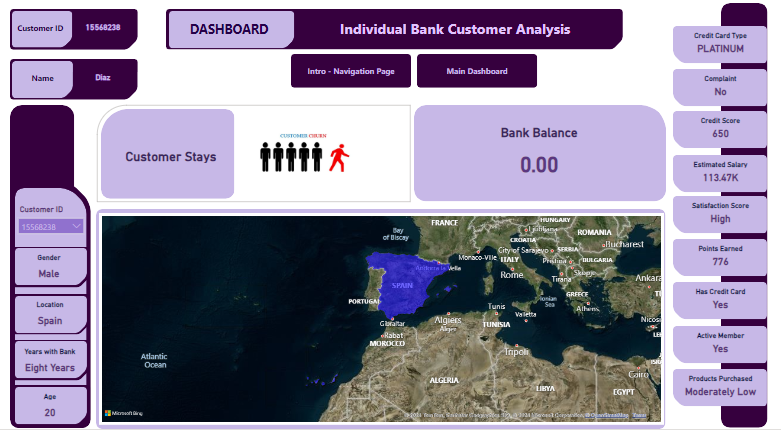

The dashboard page shown, as its layout file describes it:
{"tool":"powerbi","page":{"name":"Customer Analysis","canvas":[1280,720],"ordinal":2},"visuals":[{"type":"group","id":"g1","title":"Group 2","box":[1121.3,38.9,158.7,62.9],"z":0,"group":"g10"},{"type":"shape","box":[682.2,173.1,426.2,163],"z":0},{"type":"shape","box":[153.4,178.7,226,151.6],"z":0,"group":"g11"},{"type":"group","id":"g2","title":"Group 2","box":[1121.3,111.8,158.7,62.9],"z":1000,"group":"g10"},{"type":"shape","box":[0,173.1,108.7,546.3],"z":1000},{"type":"group","id":"g3","title":"Group 2","box":[1121.3,183.3,158.7,62.9],"z":2000,"group":"g10"},{"type":"group","id":"g4","title":"Group 2","box":[1121.3,256.3,158.7,62.9],"z":3000,"group":"g10"},{"type":"shape","box":[0,303.1,136.5,416.3],"z":3000},{"type":"group","id":"g5","title":"Group 2","box":[1121.3,326.4,158.7,62.9],"z":4000,"group":"g10"},{"type":"shape","box":[145.9,347.5,962.5,371.8],"z":4000},{"type":"shape","box":[8.1,313.4,121.4,394.4],"z":5000},{"type":"group","id":"g6","title":"Group 2","box":[1121.3,399.3,158.7,62.9],"z":5000,"group":"g10"},{"type":"shape","box":[0,10,215.9,68.7],"z":6000},{"type":"group","id":"g7","title":"Group 2","box":[1121.3,472.2,158.7,62.9],"z":6000,"group":"g10"},{"type":"shape","box":[3.4,13.6,101.8,61.6],"z":7000},{"type":"group","id":"g8","title":"Group 2","box":[1121.3,545.2,158.7,62.9],"z":7000,"group":"g10"},{"type":"textbox","box":[5.6,29,99.6,28.4],"z":8000},{"type":"group","id":"g9","title":"Group 2","box":[1121.3,618.1,158.7,62.9],"z":8000,"group":"g10"},{"type":"card","fields":{"Values":["Min(Customer-Churn-Records.CustomerId)"]},"box":[105.3,15,104.4,54.2],"z":9000},{"type":"slicer","fields":{"Values":["Customer-Churn-Records.CustomerId"]},"box":[2.9,336.1,131.6,61.5],"z":10000},{"type":"shape","box":[0,94.4,215.9,68.7],"z":11000},{"type":"shape","box":[2.9,97.3,103,62.9],"z":12000},{"type":"textbox","box":[5.6,113.3,99.6,28.4],"z":13000},{"type":"card","fields":{"Values":["Min(Customer-Churn-Records.Surname)"]},"box":[105.3,99.3,104.4,54.2],"z":14000},{"type":"shape","box":[1201.3,0,78.7,717.9],"z":15000},{"type":"group","id":"g10","title":"Group 3","box":[1121.3,38.9,158.7,642.1],"z":16000},{"type":"shape","box":[0,411.9,134.4,68.6],"z":17000},{"type":"shape","box":[8.6,414.7,121.6,62.9],"z":18000},{"type":"shape","box":[0,492,134.4,68.6],"z":19000},{"type":"shape","box":[8.6,494.8,121.6,62.9],"z":20000},{"type":"shape","box":[1121.3,38.9,158.7,62.9],"z":20002,"group":"g1"},{"type":"shape","box":[1121.3,111.8,158.7,62.9],"z":20002,"group":"g2"},{"type":"shape","box":[1121.3,183.3,158.7,62.9],"z":20002,"group":"g3"},{"type":"shape","box":[1121.3,256.3,158.7,62.9],"z":20002,"group":"g4"},{"type":"shape","box":[1121.3,326.4,158.7,62.9],"z":20002,"group":"g5"},{"type":"shape","box":[1121.3,399.3,158.7,62.9],"z":20002,"group":"g6"},{"type":"shape","box":[1121.3,472.2,158.7,62.9],"z":20002,"group":"g7"},{"type":"shape","box":[1121.3,545.2,158.7,62.9],"z":20002,"group":"g8"},{"type":"shape","box":[1121.3,618.1,158.7,62.9],"z":20002,"group":"g9"},{"type":"shape","box":[0,569.2,134.4,68.6],"z":21000},{"type":"card","title":"Credit Card Type","fields":{"Values":["Min(Customer-Churn-Records.Card Type)"]},"box":[1122.7,47.5,157.3,47.2],"z":21004,"group":"g1"},{"type":"card","title":"Complaint","fields":{"Values":["Min(Customer-Churn-Records.Complain)"]},"box":[1122.7,120.4,157.3,47.2],"z":21004,"group":"g2"},{"type":"card","title":"Credit Score","fields":{"Values":["Sum(Customer-Churn-Records.CreditScore)"]},"box":[1122.7,191.9,157.3,47.2],"z":21004,"group":"g3"},{"type":"card","title":"Estimated Salary","fields":{"Values":["Sum(Customer-Churn-Records.EstimatedSalary)"]},"box":[1122.7,264.9,157.3,47.2],"z":21004,"group":"g4"},{"type":"card","title":"Satisfaction Score","fields":{"Values":["Min(Customer-Churn-Records.Satisfaction Score)"]},"box":[1122.7,335,157.3,47.2],"z":21004,"group":"g5"},{"type":"card","title":"Points Earned","fields":{"Values":["Sum(Customer-Churn-Records.Point Earned)"]},"box":[1122.7,407.9,157.3,47.2],"z":21004,"group":"g6"},{"type":"card","title":"Has Credit Card","fields":{"Values":["Min(Customer-Churn-Records.HasCrCard)"]},"box":[1122.7,480.8,157.3,47.2],"z":21004,"group":"g7"},{"type":"card","title":"Active Member","fields":{"Values":["Min(Customer-Churn-Records.IsActiveMember)"]},"box":[1122.7,553.8,157.3,47.2],"z":21004,"group":"g8"},{"type":"card","title":"Products Purchased","fields":{"Values":["Min(Customer-Churn-Records.NumOfProducts)"]},"box":[1122.7,626.7,157.3,47.2],"z":21004,"group":"g9"},{"type":"card","title":"Bank Balance","fields":{"Values":["Sum(Customer-Churn-Records.Balance)"]},"box":[682.2,205.9,423.3,101.5],"z":22000},{"type":"shape","box":[8.6,572,121.6,62.9],"z":23000},{"type":"card","title":"Gender","fields":{"Values":["Min(Customer-Churn-Records.Gender)"]},"box":[5.7,421.9,121.6,55.8],"z":24000},{"type":"card","title":"Location","fields":{"Values":["Min(Customer-Churn-Records.Geography)"]},"box":[7.2,502,121.6,55.8],"z":25000},{"type":"card","title":"Years with Bank","fields":{"Values":["Min(Customer-Churn-Records.Tenure)"]},"box":[7.2,580.6,121.6,55.8],"z":26000},{"type":"cardVisual","fields":{"Data":["Min(Customer-Churn-Records.Exited)"]},"box":[142,167.3,540.6,174.5],"z":27000,"group":"g11"},{"type":"filledMap","fields":{"Category":["Customer-Churn-Records.Geography"]},"box":[150.2,354.7,955.4,357.5],"z":27000},{"type":"group","id":"g11","title":"Group 4","box":[142,167.3,540.6,174.5],"z":28000},{"type":"shape","box":[263.3,9.9,772.3,68.6],"z":29000,"group":"g12"},{"type":"shape","box":[1.4,646.4,134.4,68.6],"z":29000},{"type":"shape","box":[267.6,12.8,211.7,62.9],"z":30000,"group":"g12"},{"type":"shape","box":[8,649.3,121.6,62.9],"z":30000},{"type":"card","title":"Age","fields":{"Values":["Sum(Customer-Churn-Records.Age)"]},"box":[6.6,657.9,121.6,55.8],"z":31000},{"type":"group","id":"g12","title":"Group 5","box":[263.3,9.9,772.2,67.8],"z":32000},{"type":"pageNavigator","box":[474.4,86.1,416.5,57.9],"z":33000},{"type":"textbox","box":[276.2,22.8,185.9,47.2],"z":34000,"group":"g12"},{"type":"textbox","box":[490.7,21.3,520.6,44.3],"z":35000,"group":"g12"}]}

Visuals, with their boxes in screenshot pixels (x1, y1, x2, y2), scaled from the page's 1280x720 canvas onto the 781x430 screenshot:
"Group 2" group: crop(684, 23, 780, 61)
shape: crop(416, 103, 676, 201)
shape: crop(94, 107, 231, 197)
"Group 2" group: crop(684, 67, 780, 104)
shape: crop(0, 103, 66, 429)
"Group 2" group: crop(684, 109, 780, 147)
"Group 2" group: crop(684, 153, 780, 191)
shape: crop(0, 181, 83, 429)
"Group 2" group: crop(684, 195, 780, 232)
shape: crop(89, 208, 676, 429)
shape: crop(5, 187, 79, 423)
"Group 2" group: crop(684, 238, 780, 276)
shape: crop(0, 6, 132, 47)
"Group 2" group: crop(684, 282, 780, 320)
shape: crop(2, 8, 64, 45)
"Group 2" group: crop(684, 326, 780, 363)
textbox: crop(3, 17, 64, 34)
"Group 2" group: crop(684, 369, 780, 407)
card - Min(Customer-Churn-Records.CustomerId): crop(64, 9, 128, 41)
slicer - Customer-Churn-Records.CustomerId: crop(2, 201, 82, 237)
shape: crop(0, 56, 132, 97)
shape: crop(2, 58, 65, 96)
textbox: crop(3, 68, 64, 85)
card - Min(Customer-Churn-Records.Surname): crop(64, 59, 128, 92)
shape: crop(733, 0, 780, 429)
"Group 3" group: crop(684, 23, 780, 407)
shape: crop(0, 246, 82, 287)
shape: crop(5, 248, 79, 285)
shape: crop(0, 294, 82, 335)
shape: crop(5, 296, 79, 333)
shape: crop(684, 23, 780, 61)
shape: crop(684, 67, 780, 104)
shape: crop(684, 109, 780, 147)
shape: crop(684, 153, 780, 191)
shape: crop(684, 195, 780, 232)
shape: crop(684, 238, 780, 276)
shape: crop(684, 282, 780, 320)
shape: crop(684, 326, 780, 363)
shape: crop(684, 369, 780, 407)
shape: crop(0, 340, 82, 381)
"Credit Card Type" card: crop(685, 28, 780, 57)
"Complaint" card: crop(685, 72, 780, 100)
"Credit Score" card: crop(685, 115, 780, 143)
"Estimated Salary" card: crop(685, 158, 780, 186)
"Satisfaction Score" card: crop(685, 200, 780, 228)
"Points Earned" card: crop(685, 244, 780, 272)
"Has Credit Card" card: crop(685, 287, 780, 315)
"Active Member" card: crop(685, 331, 780, 359)
"Products Purchased" card: crop(685, 374, 780, 402)
"Bank Balance" card: crop(416, 123, 675, 184)
shape: crop(5, 342, 79, 379)
"Gender" card: crop(3, 252, 78, 285)
"Location" card: crop(4, 300, 79, 333)
"Years with Bank" card: crop(4, 347, 79, 380)
cardVisual - Min(Customer-Churn-Records.Exited): crop(87, 100, 416, 204)
filledMap - Customer-Churn-Records.Geography: crop(92, 212, 675, 425)
"Group 4" group: crop(87, 100, 416, 204)
shape: crop(161, 6, 632, 47)
shape: crop(1, 386, 83, 427)
shape: crop(163, 8, 292, 45)
shape: crop(5, 388, 79, 425)
"Age" card: crop(4, 393, 78, 426)
"Group 5" group: crop(161, 6, 632, 46)
pageNavigator: crop(289, 51, 544, 86)
textbox: crop(169, 14, 282, 42)
textbox: crop(299, 13, 617, 39)
